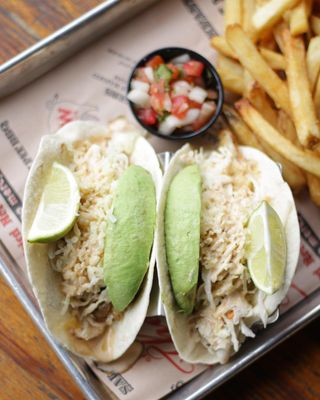soup: (19, 118, 161, 362), (158, 135, 303, 366)
sushi: (124, 46, 224, 147)
